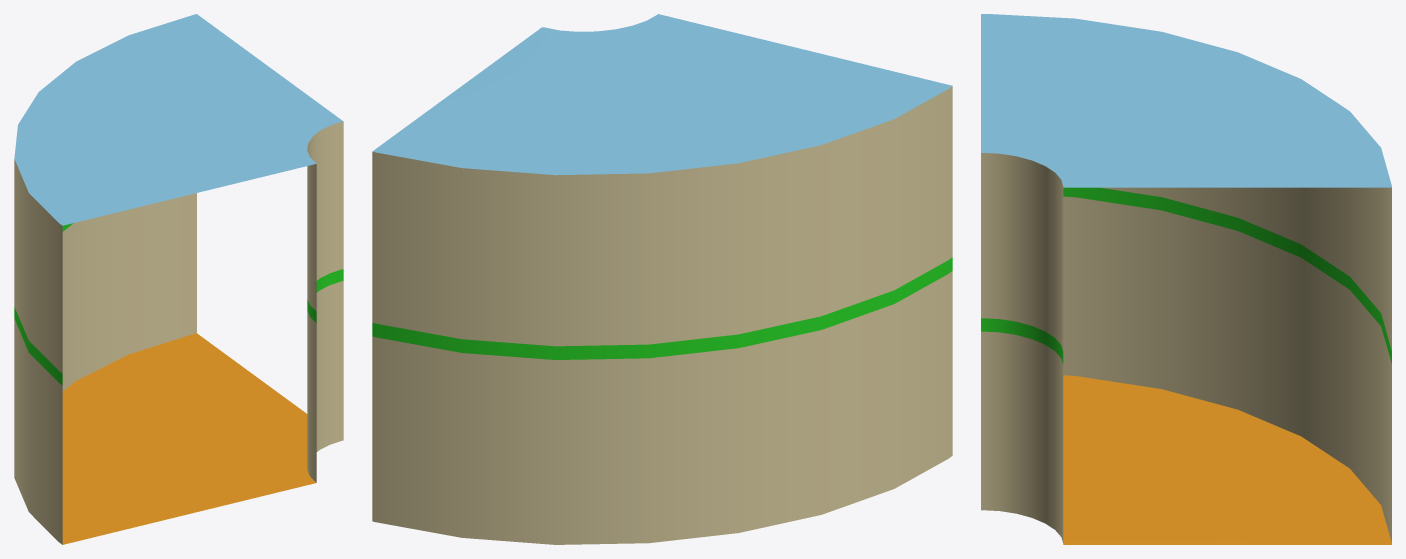
3 views of the same model, side by side, from view 1: azimuth 30°, elevation 25°; view 2: azimuth 150°, elevation 25°; view 3: azimuth 270°, elevation 25° (orthographic). The views are drawn at different scales.
Visible parts, largest first — view 1: corner_curved; view 2: corner_curved; view 3: corner_curved.
Boxes of the visible parts, bbox=[...] form: corner_curved: bbox=[14, 14, 343, 544]; corner_curved: bbox=[372, 14, 952, 544]; corner_curved: bbox=[981, 14, 1391, 544].
Bounding box in the file's own units: 250 × 240 × 250.
